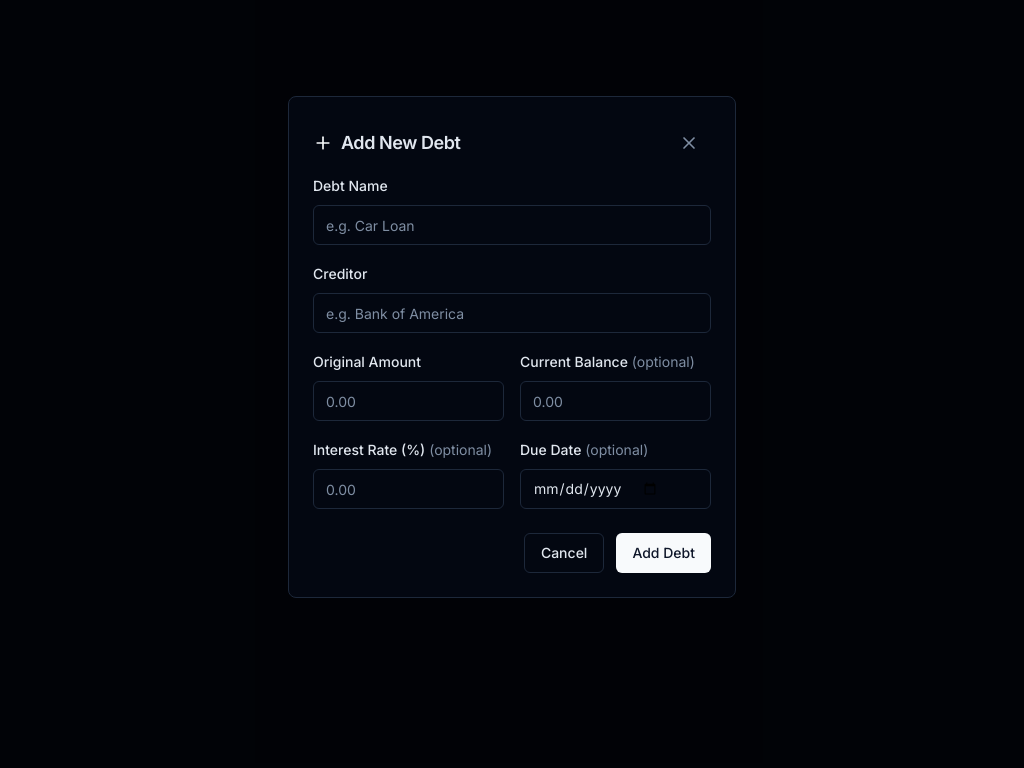
Test: DebtDialog - Add Mode › shows validation error for zero original amount
Type "0" into the number field labelled "Original Amount" at (408, 401), box [313, 381, 504, 421]
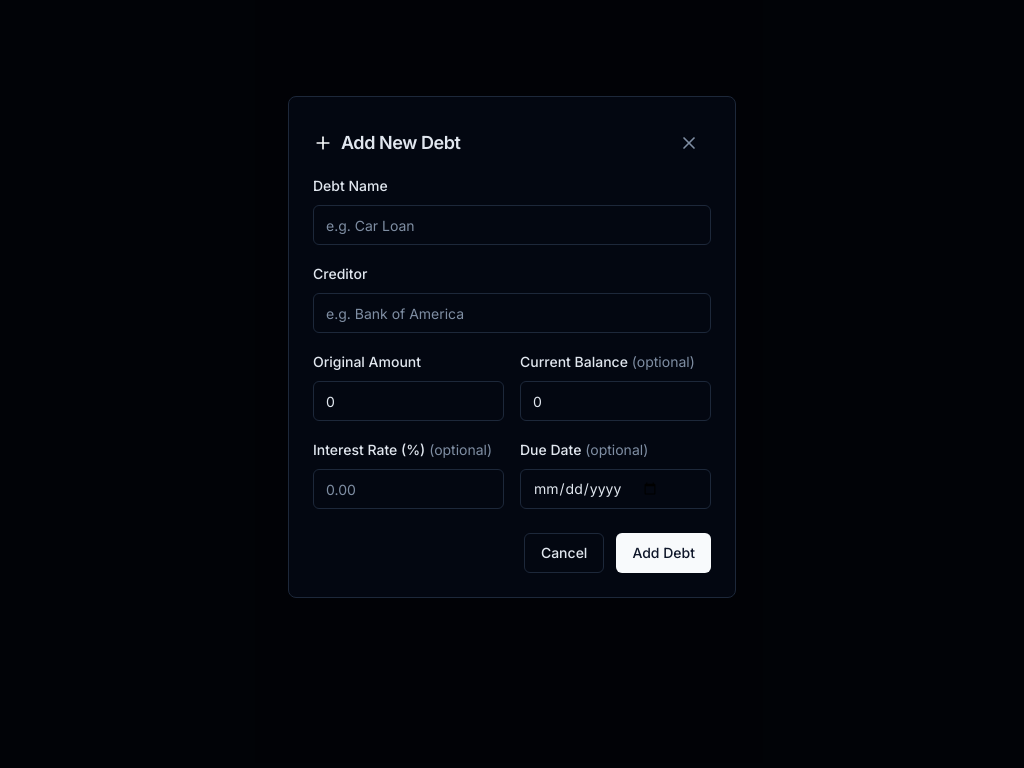
Leave the number field labelled "Original Amount", box [313, 381, 504, 421]
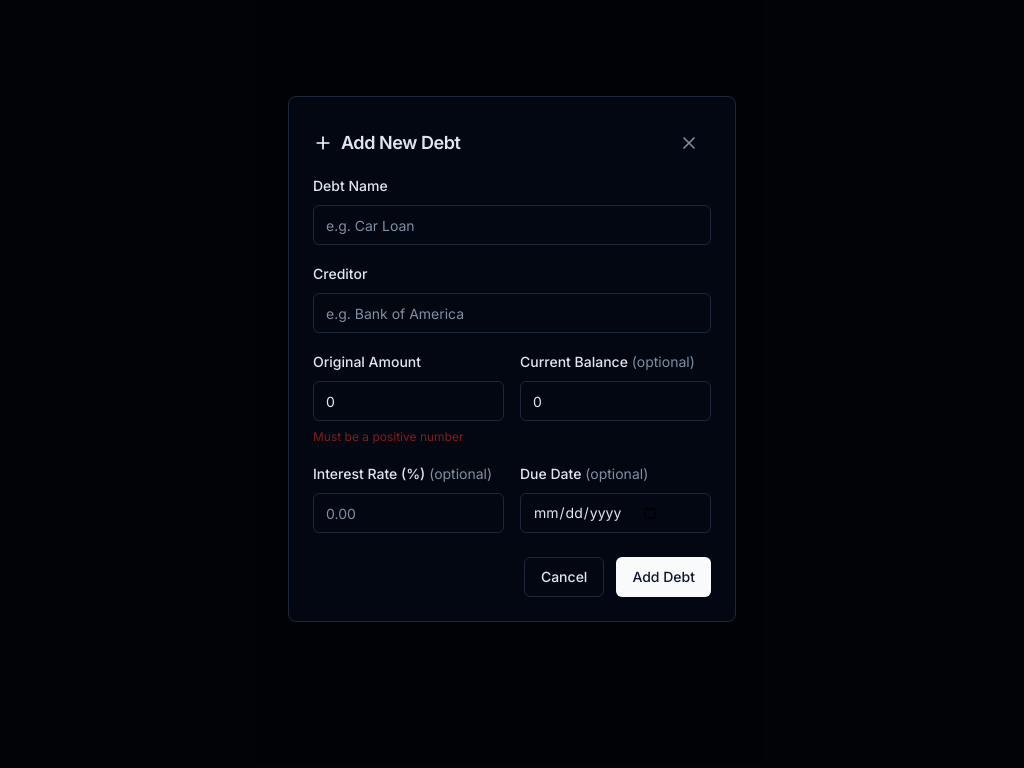
Result: the text "Must be a positive number" is shown at [313, 429, 464, 444]
